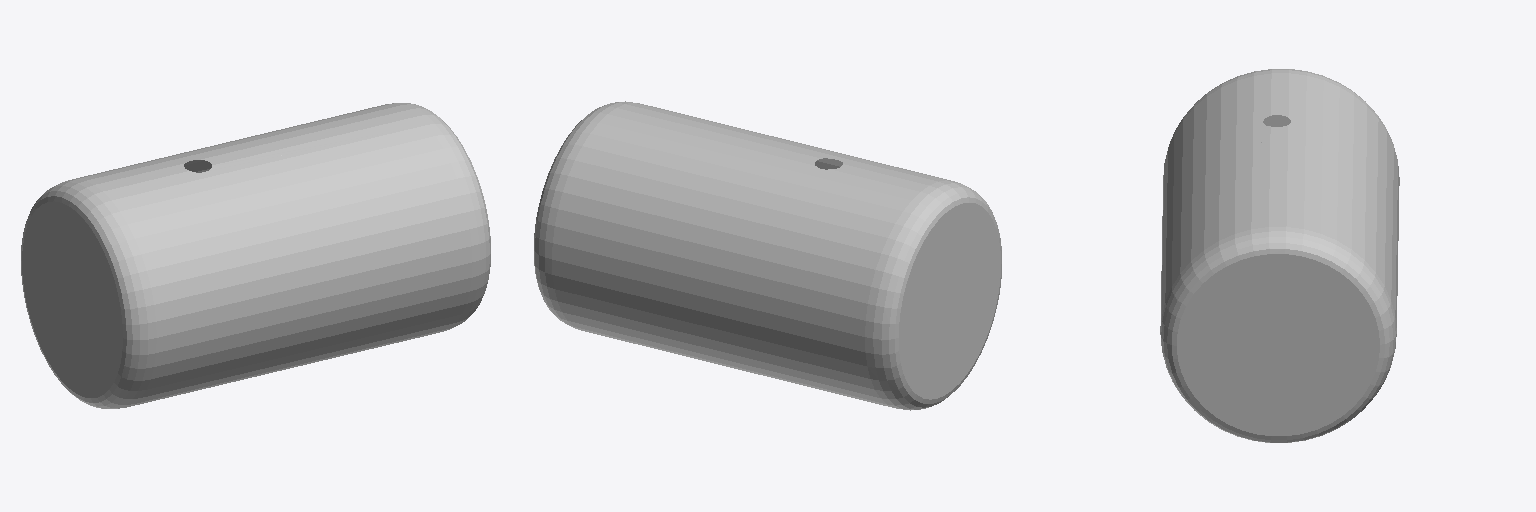
Rendered from DefaultAltAz.obj.
3 views of the same model, side by side, from view 1: azimuth 30°, elevation 25°; view 2: azimuth 150°, elevation 25°; view 3: azimuth 270°, elevation 25° (orthographic).
Visible parts, largest first — view 1: obj_0_group_0_[number redacted].002 Mesh; view 2: obj_0_group_0_[number redacted].002 Mesh; view 3: obj_0_group_0_[number redacted].002 Mesh.
Boxes of the visible parts, x1=… form: obj_0_group_0_[number redacted].002 Mesh: x1=21, y1=103, x2=490, y2=408; obj_0_group_0_[number redacted].002 Mesh: x1=534, y1=101, x2=1001, y2=410; obj_0_group_0_[number redacted].002 Mesh: x1=1160, y1=69, x2=1399, y2=442.
Bounding box in the file's own units: 502 × 277 × 284.